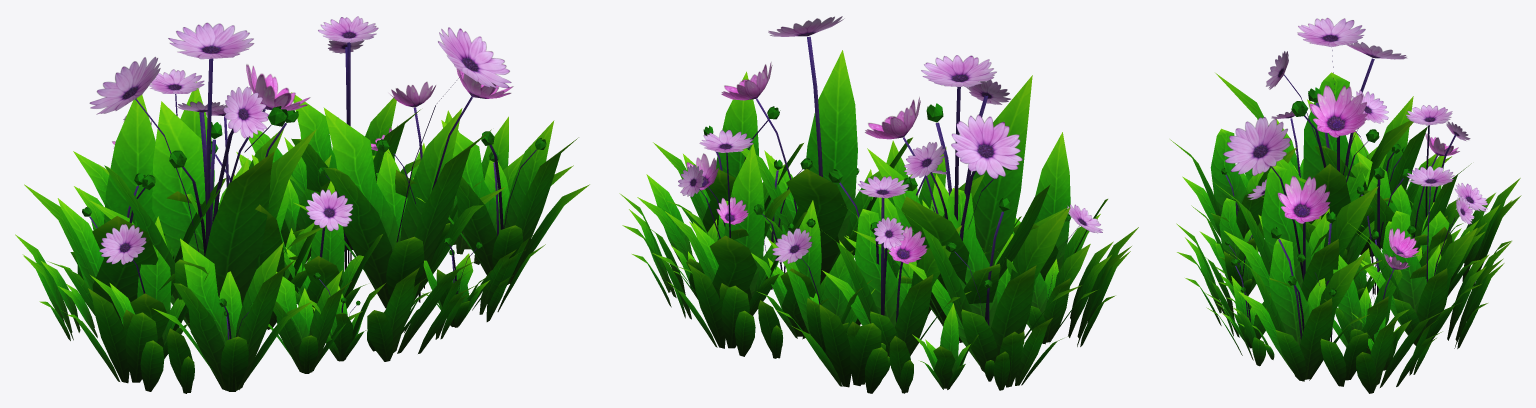
The picture shows the model from 3 angles, left to right: view 1: azimuth 30°, elevation 25°; view 2: azimuth 150°, elevation 25°; view 3: azimuth 270°, elevation 25°; orthographic projection. The views are drawn at different scales.
Visible parts, largest first — view 1: Flower04; view 2: Flower04; view 3: Flower04.
Part boxes in pixels (x1,y1,x2,y2): Flower04: [15, 16, 589, 393]; Flower04: [619, 16, 1138, 393]; Flower04: [1170, 18, 1521, 393].
Size of the model in its own units: 34.77 by 19.58 by 25.39.
1 material, 1 textured.
